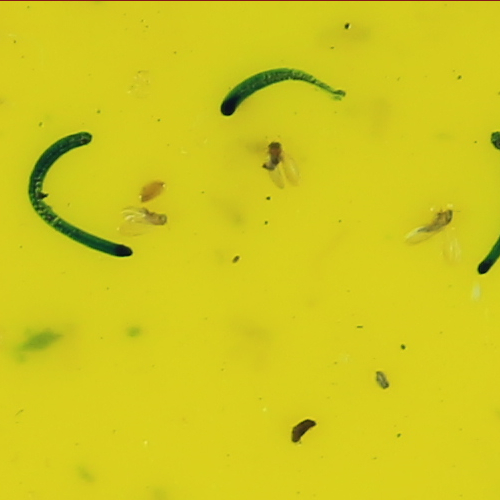psylla: (418, 209, 456, 233), (261, 140, 284, 169), (135, 207, 168, 227)
